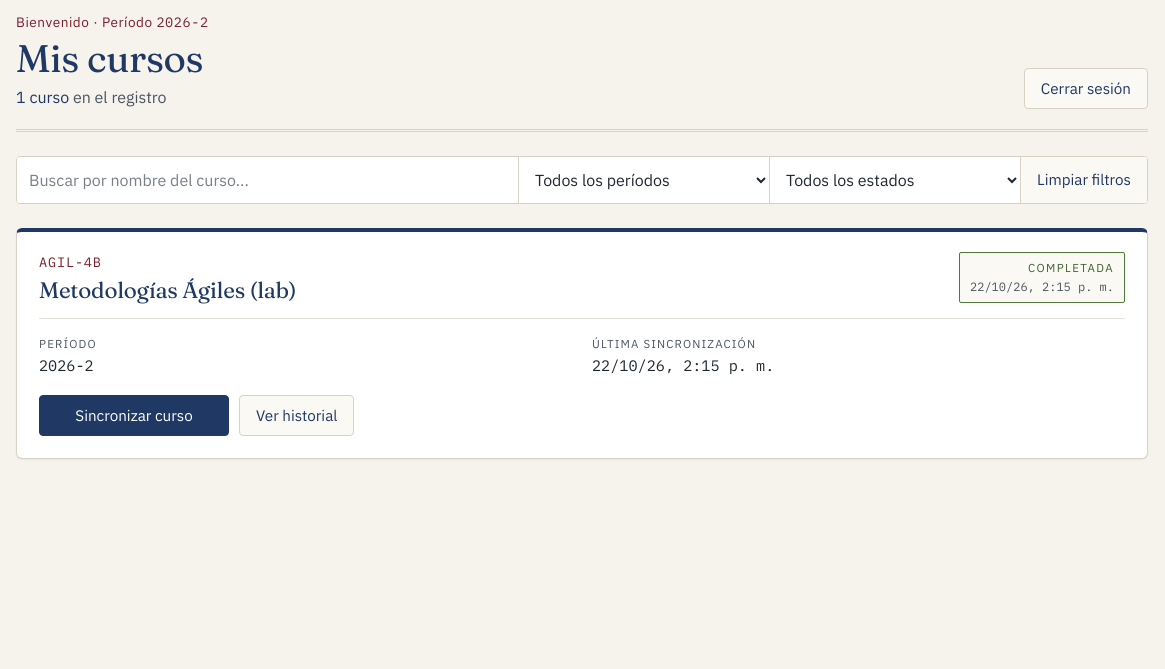
Test: Mis cursos › sincroniza un curso y actualiza su estado
The width and height of the screenshot is (1165, 669).
Expected: the text "AGIL-4B" is shown, [39,252,102,270]
Click the button "Sincronizar curso" at (134, 415), box [39,395,229,436]
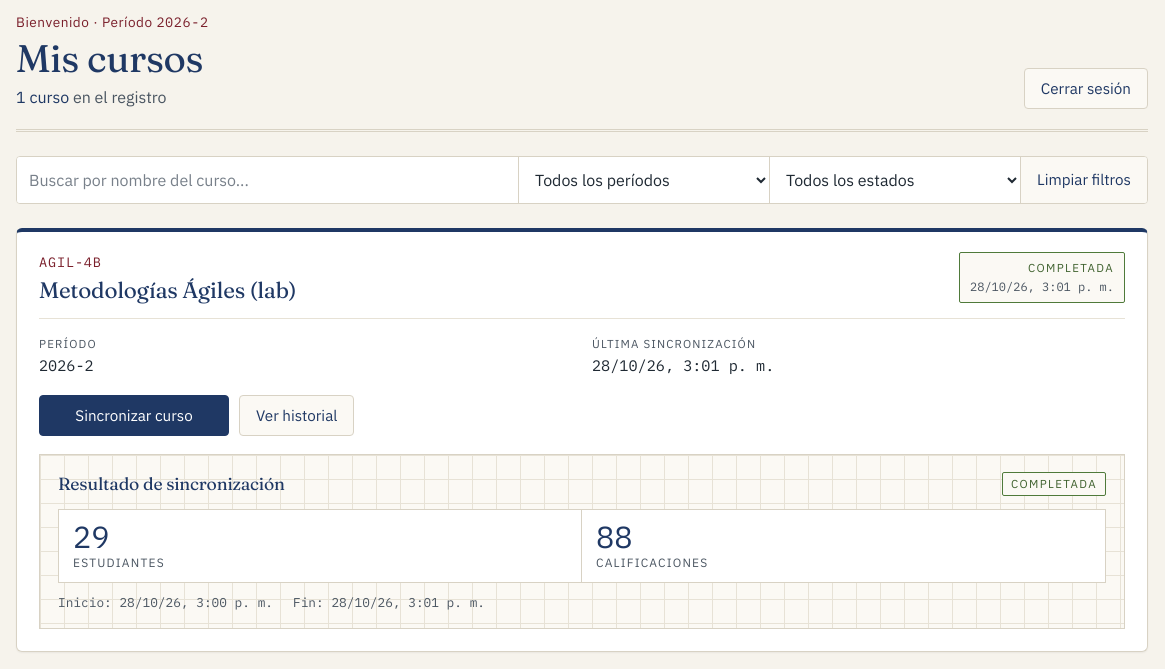
Expected: the heading "Resultado de sincronización" is shown, [58,471,285,497]
